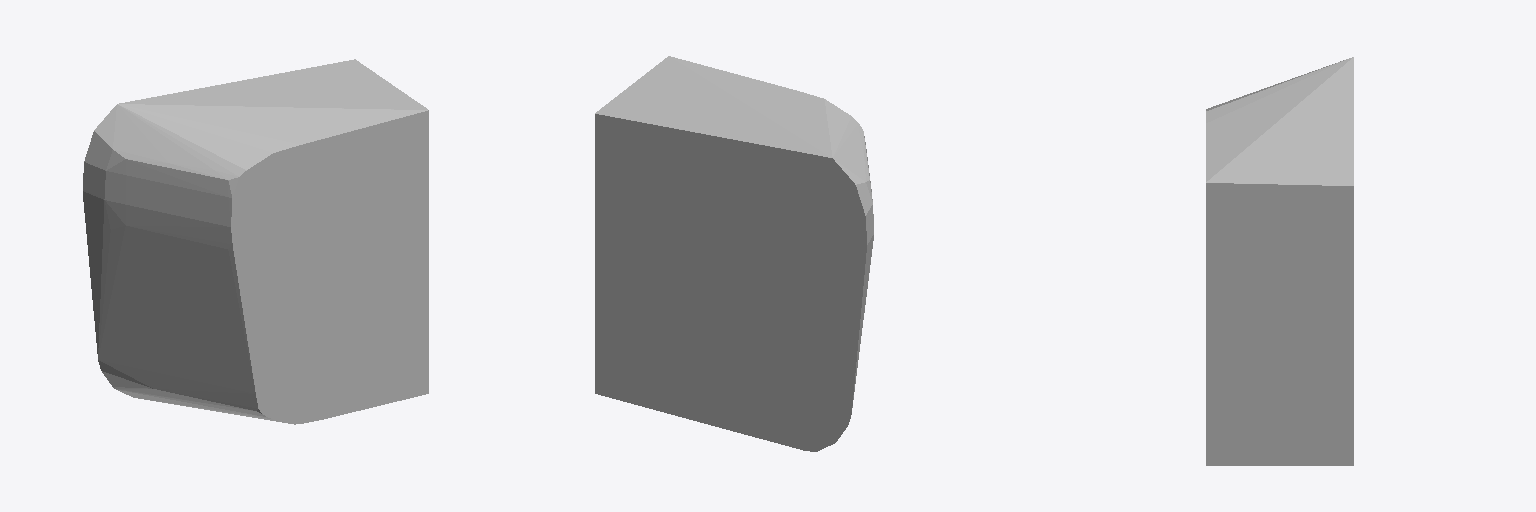
The model's file is sofa_collision_16.obj.
The picture shows the model from 3 angles: view 1: azimuth 30°, elevation 25°; view 2: azimuth 150°, elevation 25°; view 3: azimuth 270°, elevation 25°; orthographic projection.
Size of the model in its own units: 92.71 by 97.28 by 43.72.